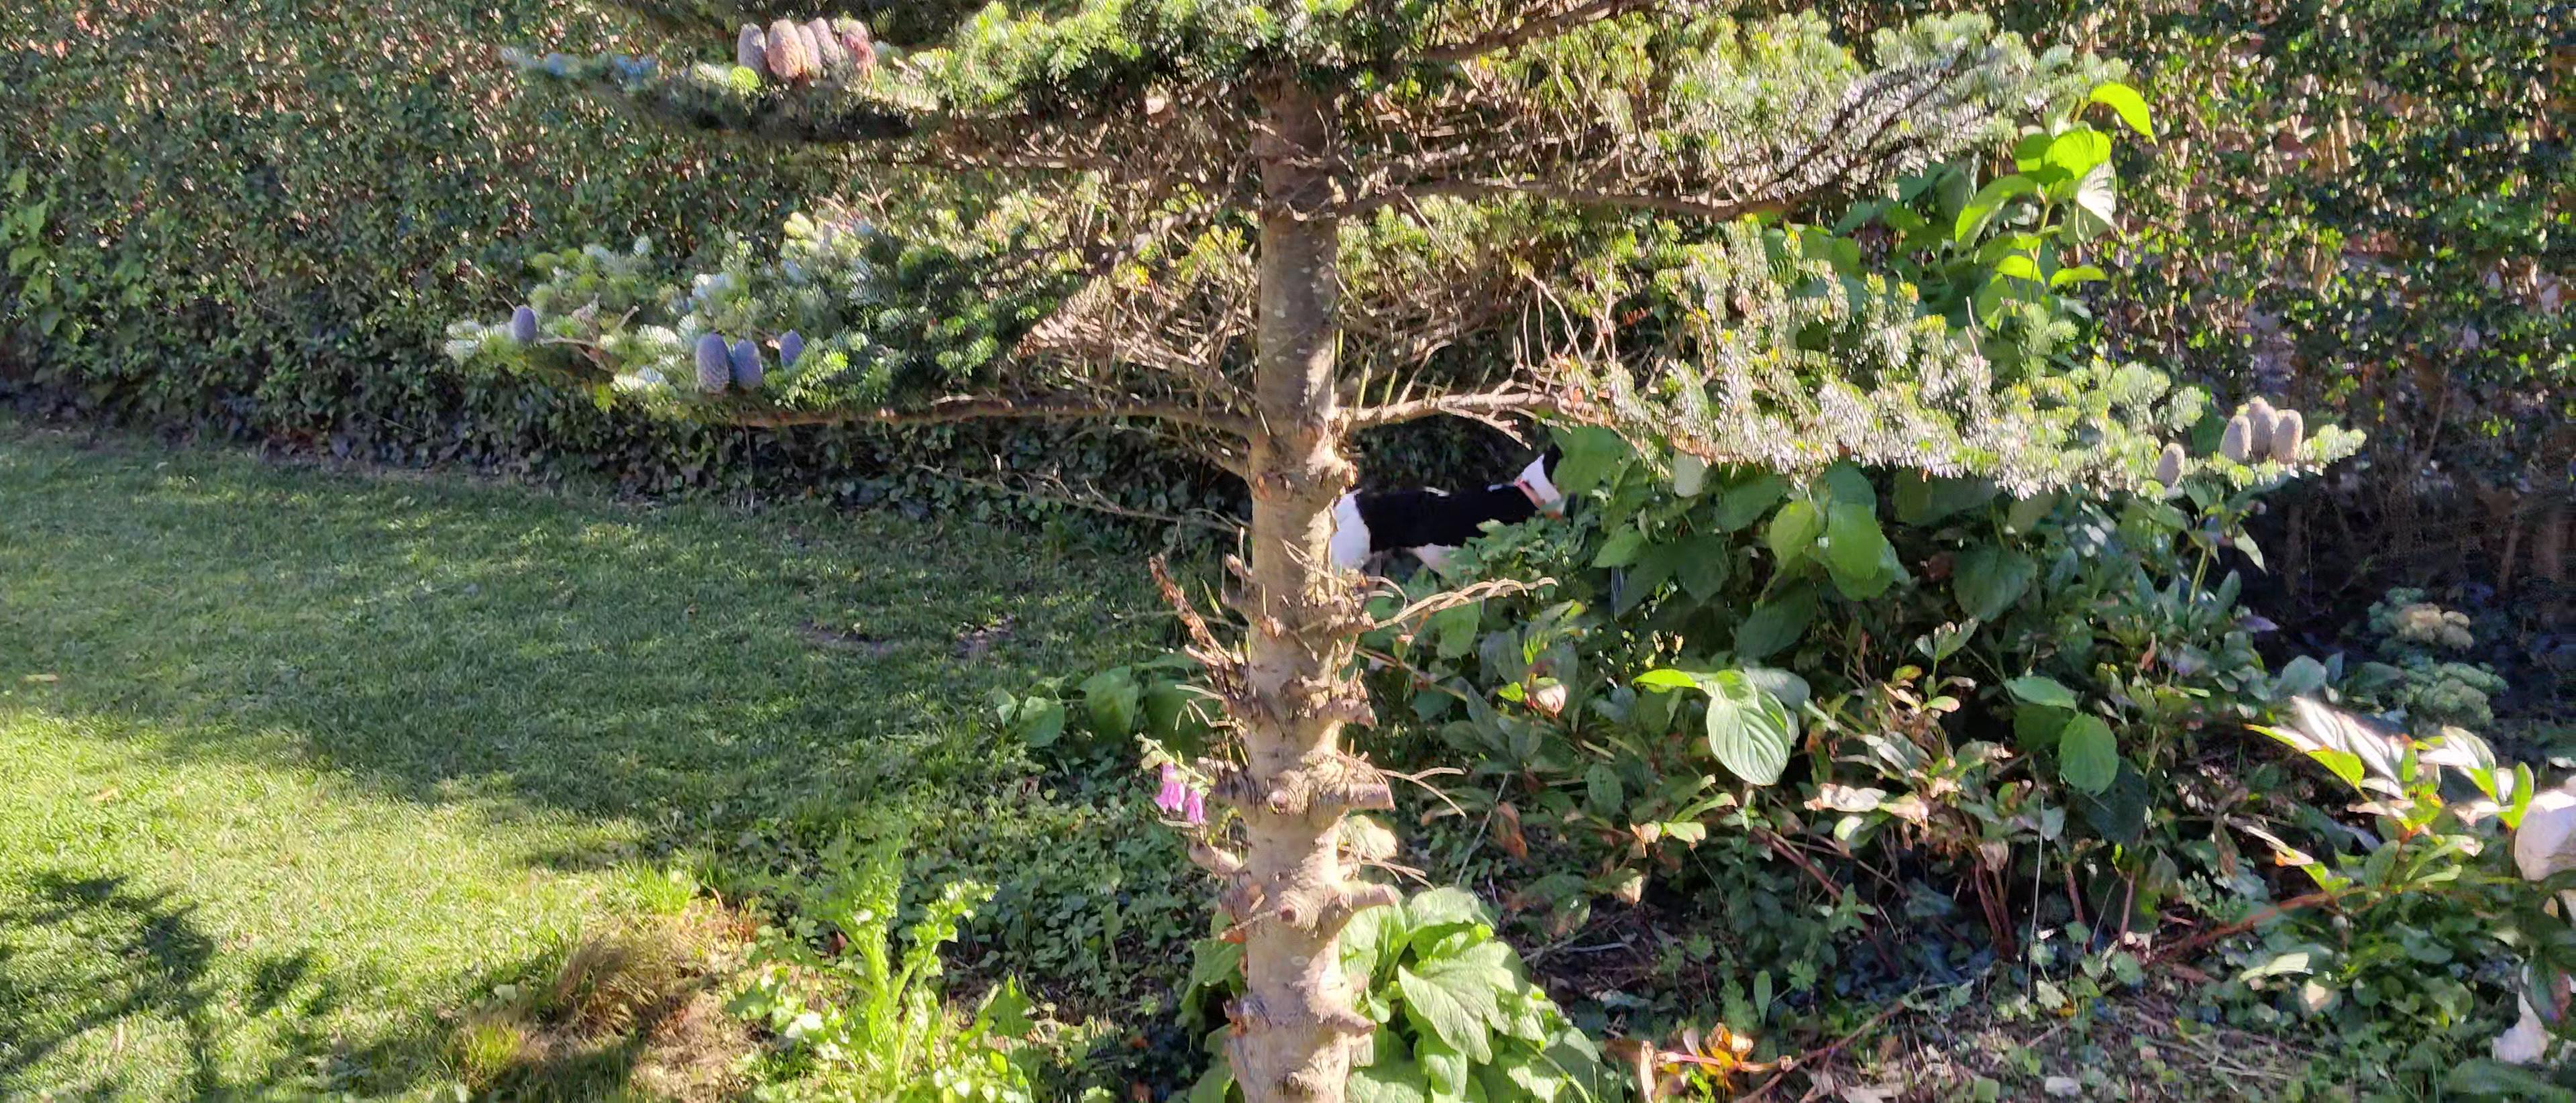Dog: (1316, 436, 1626, 605)
